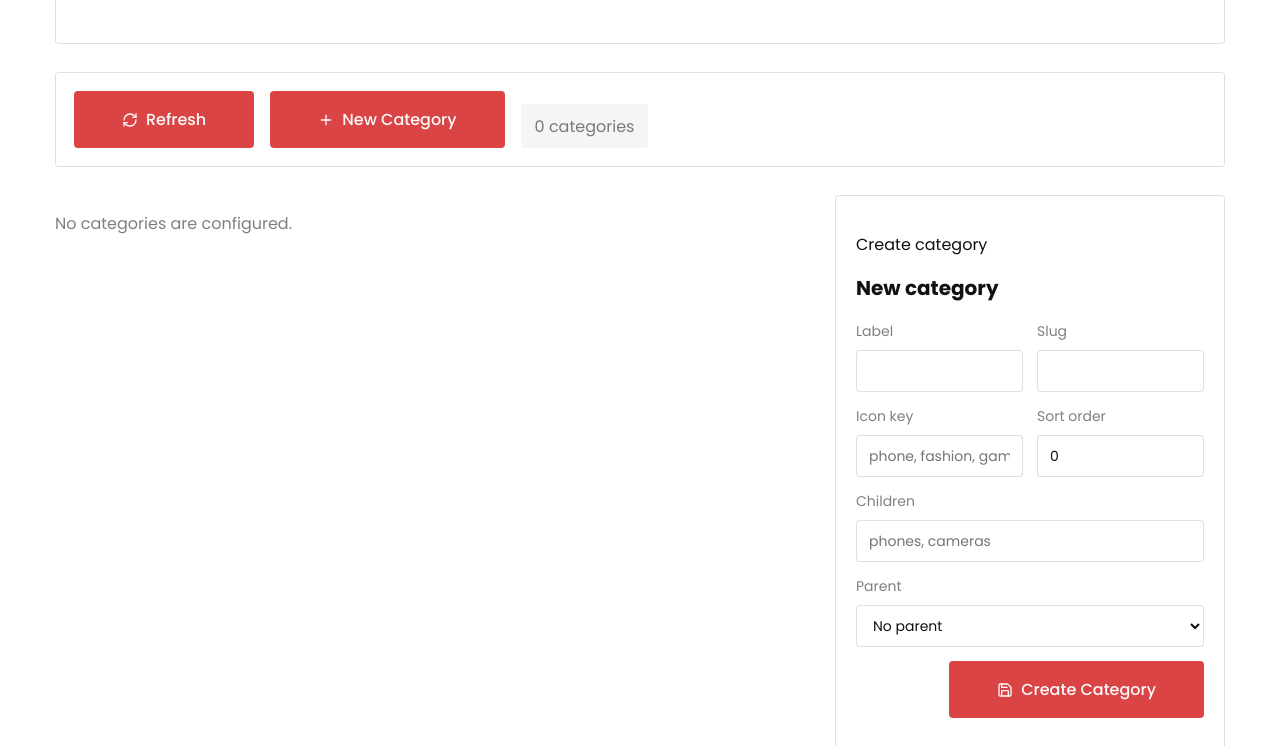
Test: AdminCategoriesPage › creates a category with generated and manually edited slugs
The width and height of the screenshot is (1280, 746).
(page scrolled)
Type "Gaming Gear" into the field labelled "Label" at {"x": 940, "y": 371}, box [856, 350, 1023, 392]
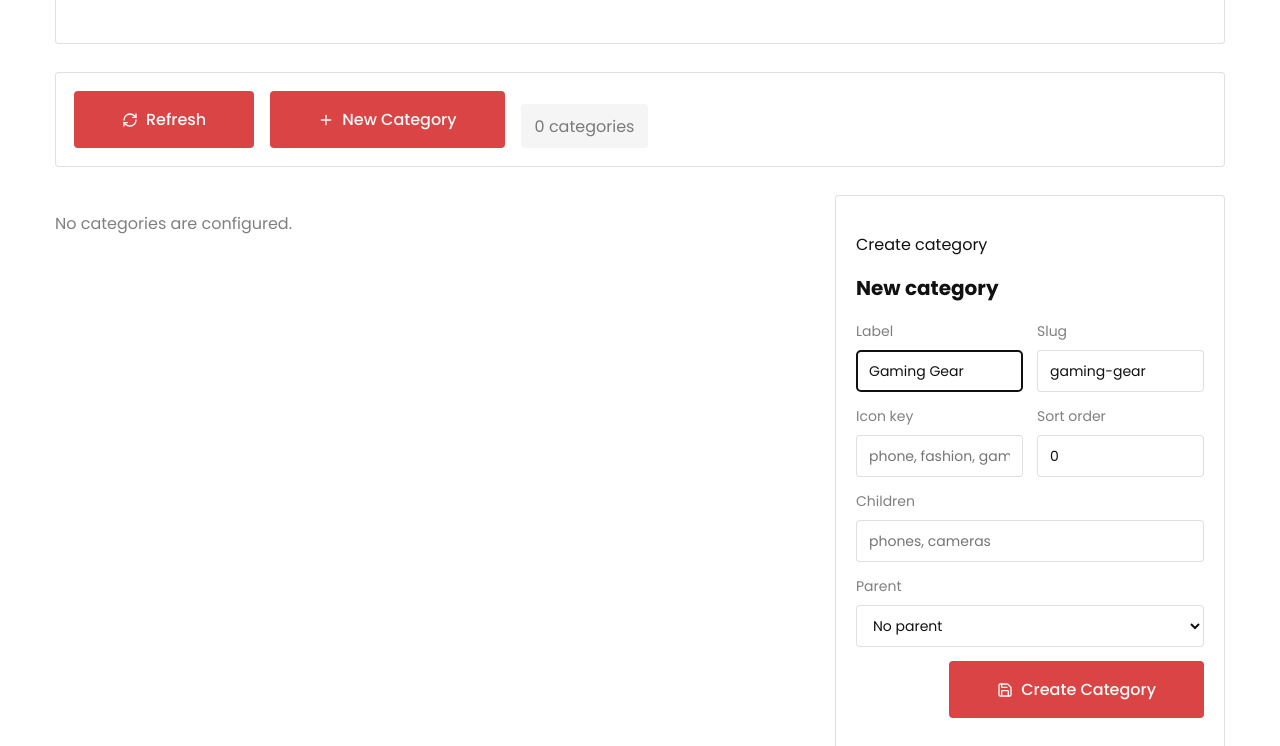
Check: the field labelled "Slug" holds "gaming-gear"
Replace the text in the field labelled "Slug" with "gaming" at {"x": 1120, "y": 371}, box [1037, 350, 1204, 392]
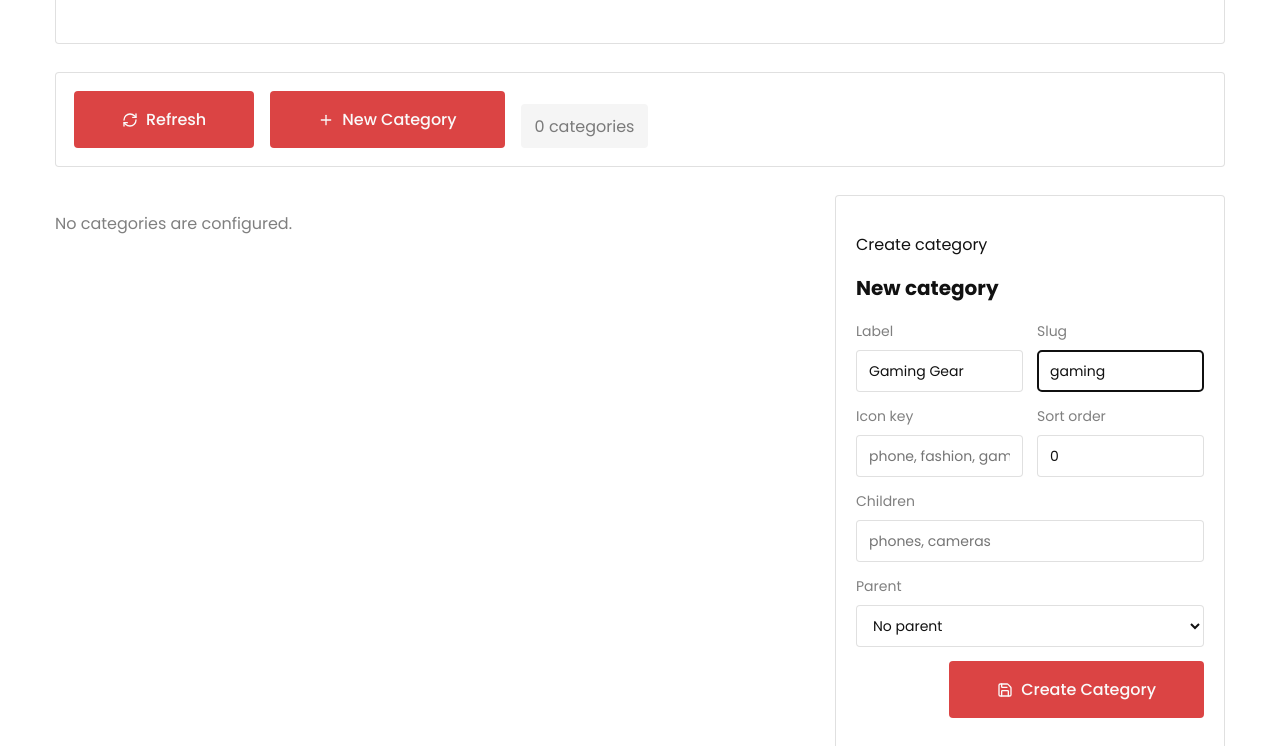
Type "gamepad" into the field labelled "Icon key" at {"x": 940, "y": 456}, box [856, 435, 1023, 477]
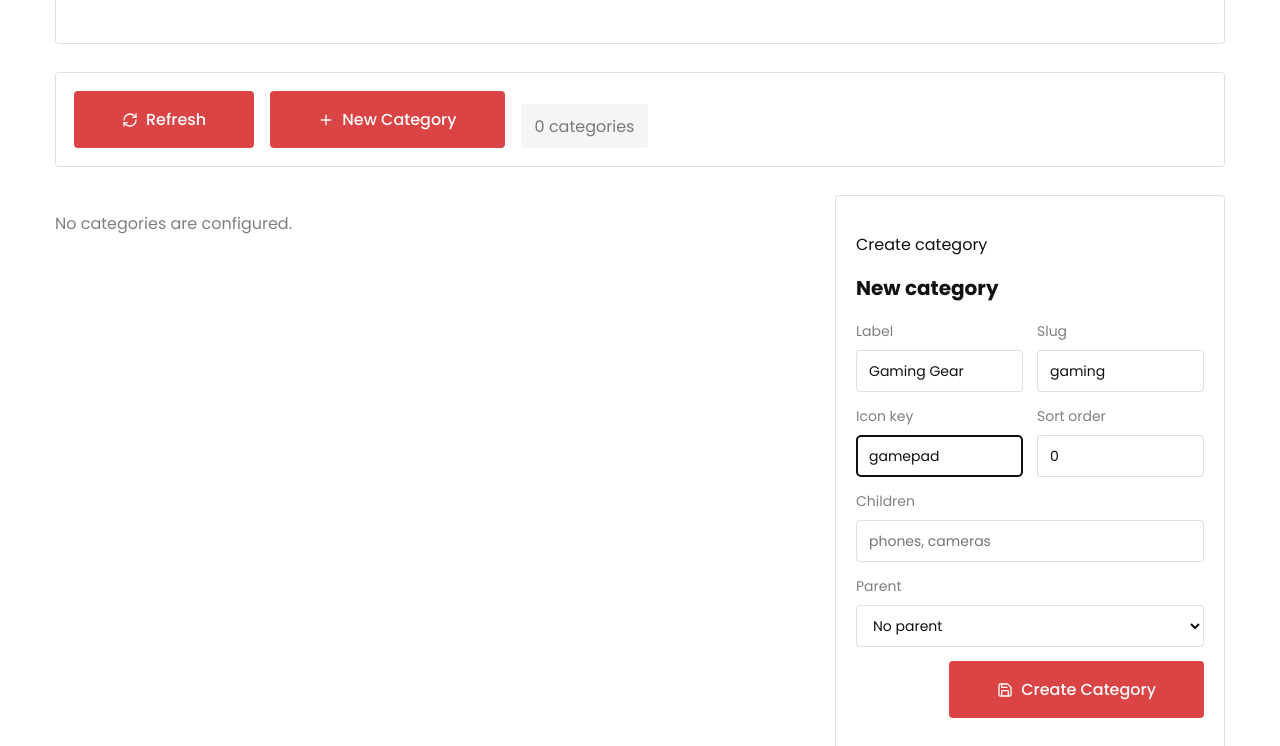
Type "consoles, controllers" into the field labelled "Children" at {"x": 1030, "y": 541}, box [856, 520, 1204, 562]
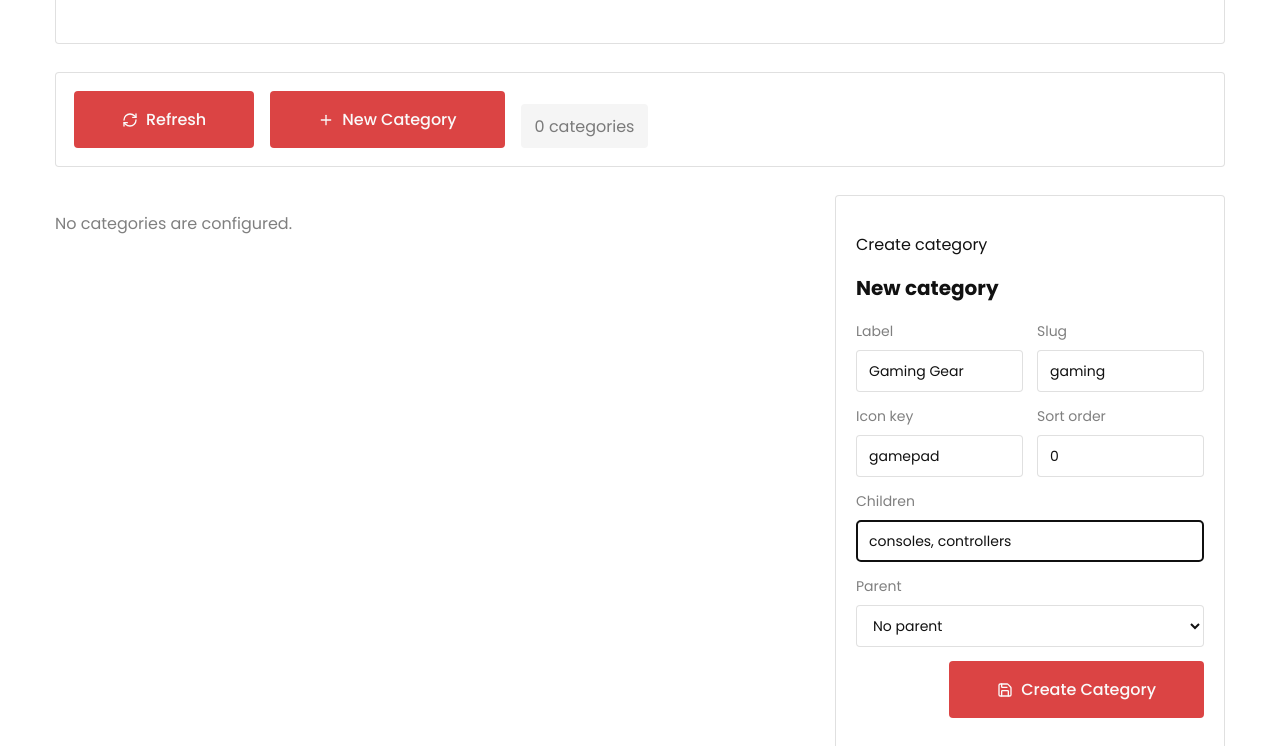
Replace the text in the number field labelled "Sort order" with "4" at {"x": 1120, "y": 456}, box [1037, 435, 1204, 477]
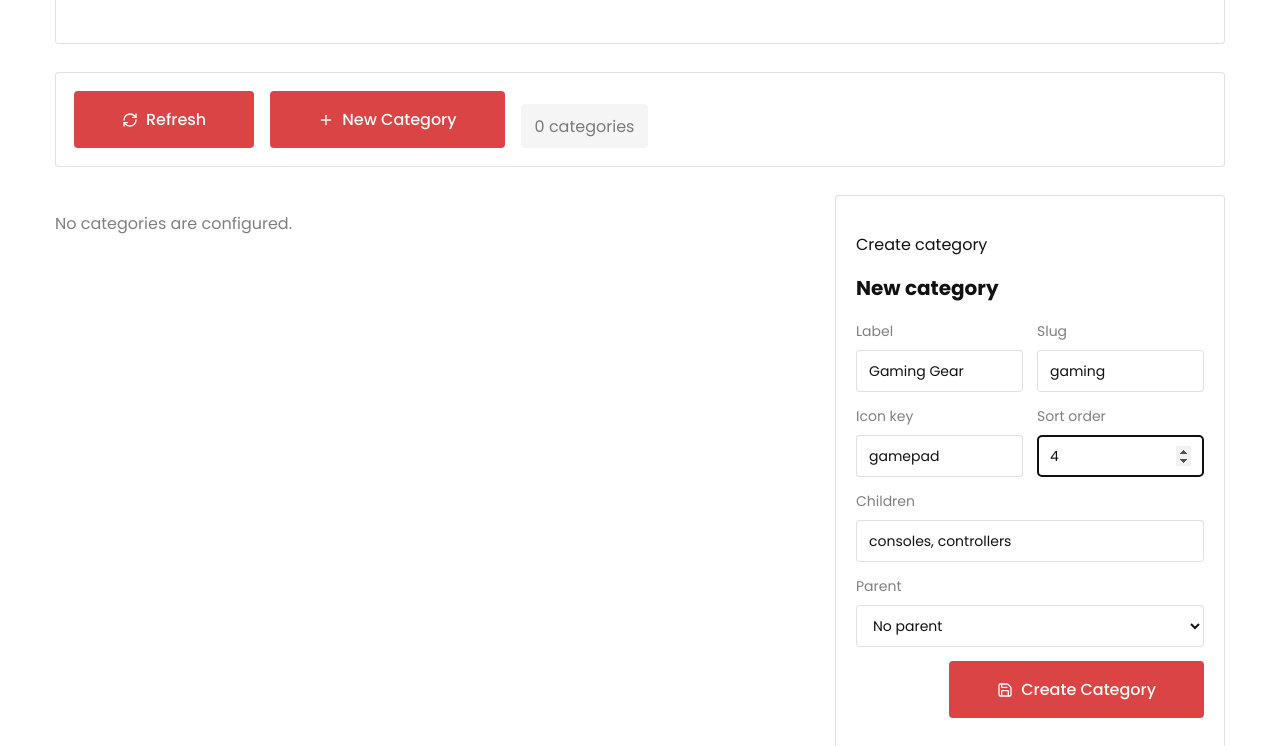
Click the button "Create Category" at {"x": 1077, "y": 690}, box [949, 661, 1204, 718]
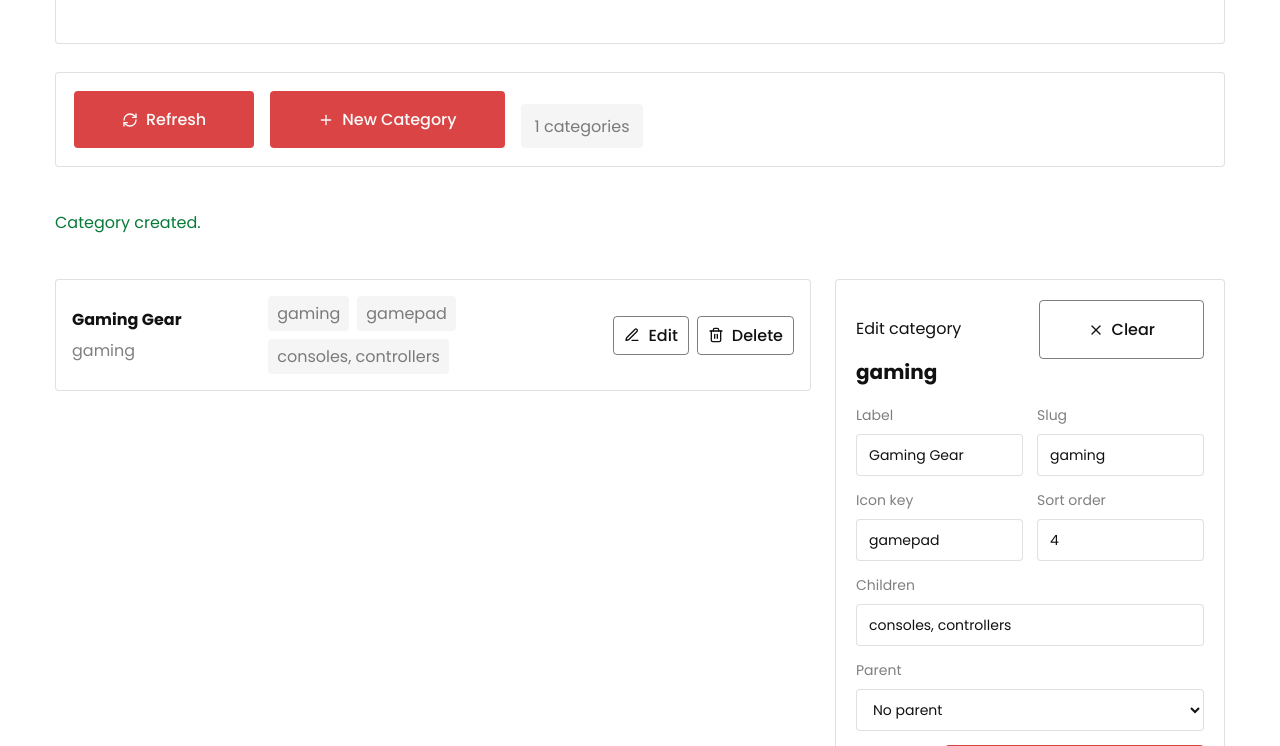
Check: the text "Gaming Gear" is shown, box [72, 308, 182, 331]
